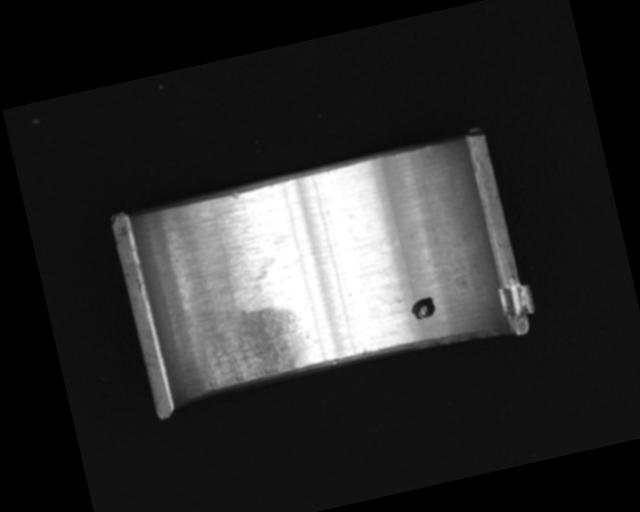blot: (408, 295, 438, 322)
bruise: (229, 190, 241, 202)
scratch: (186, 295, 318, 392)
